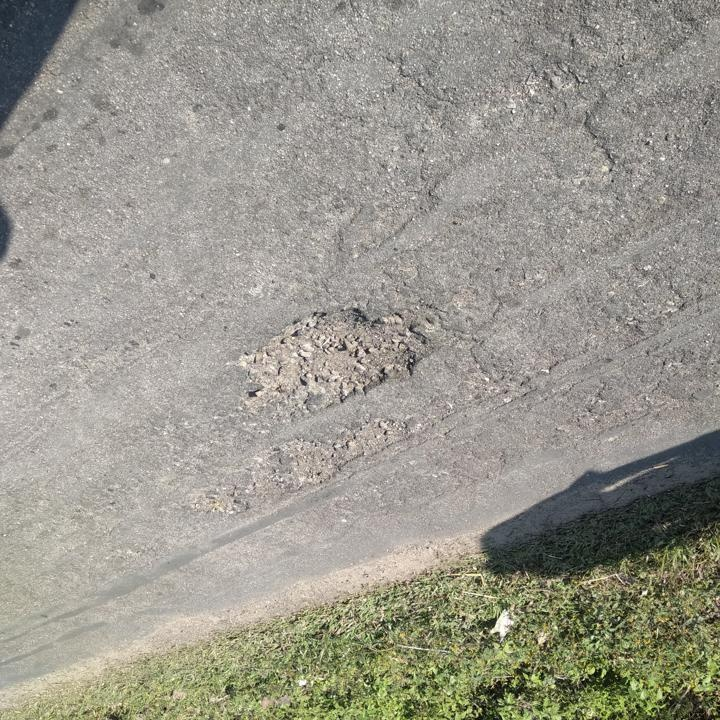pothole: (229, 304, 446, 419), (258, 414, 420, 491), (184, 482, 250, 521)
